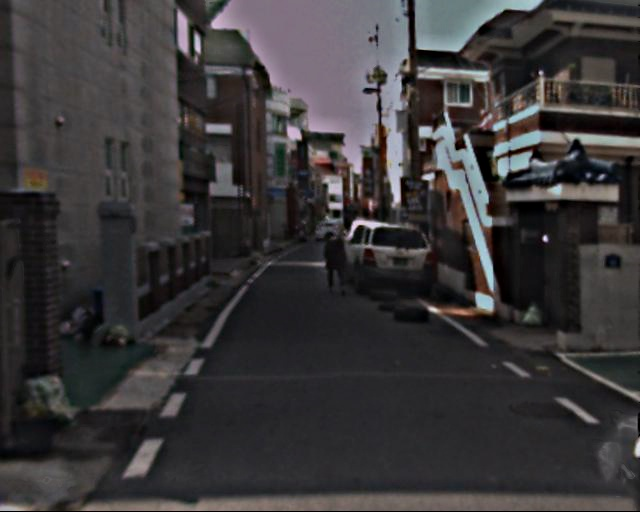person: (320, 230, 348, 299)
